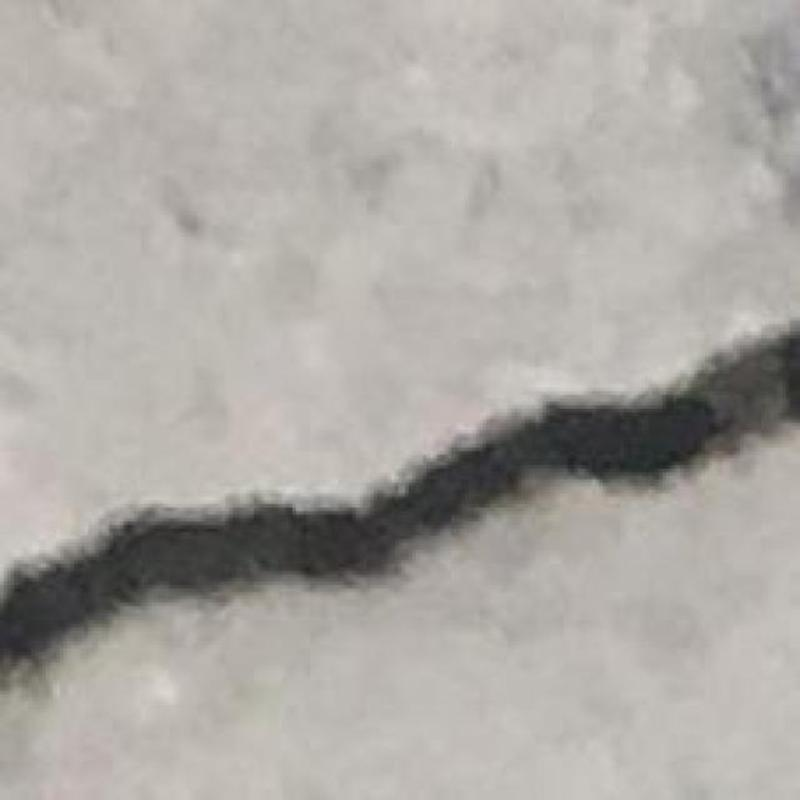pothole: (0, 321, 799, 688)
